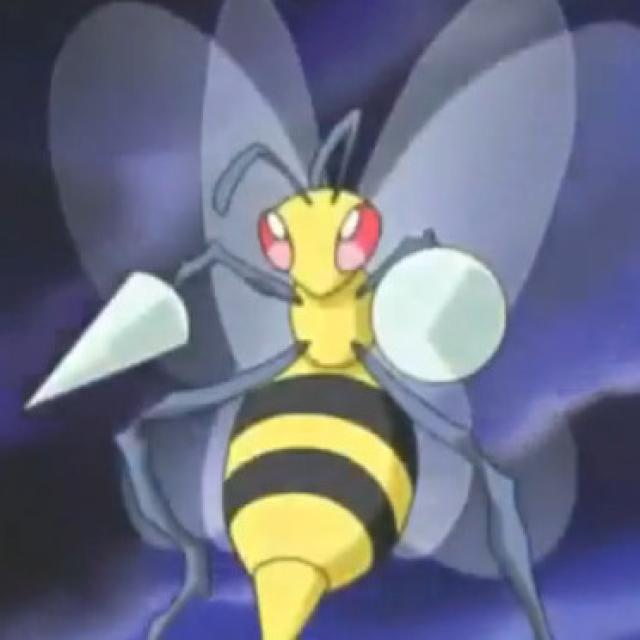Beedrill: (104, 101, 562, 609)
